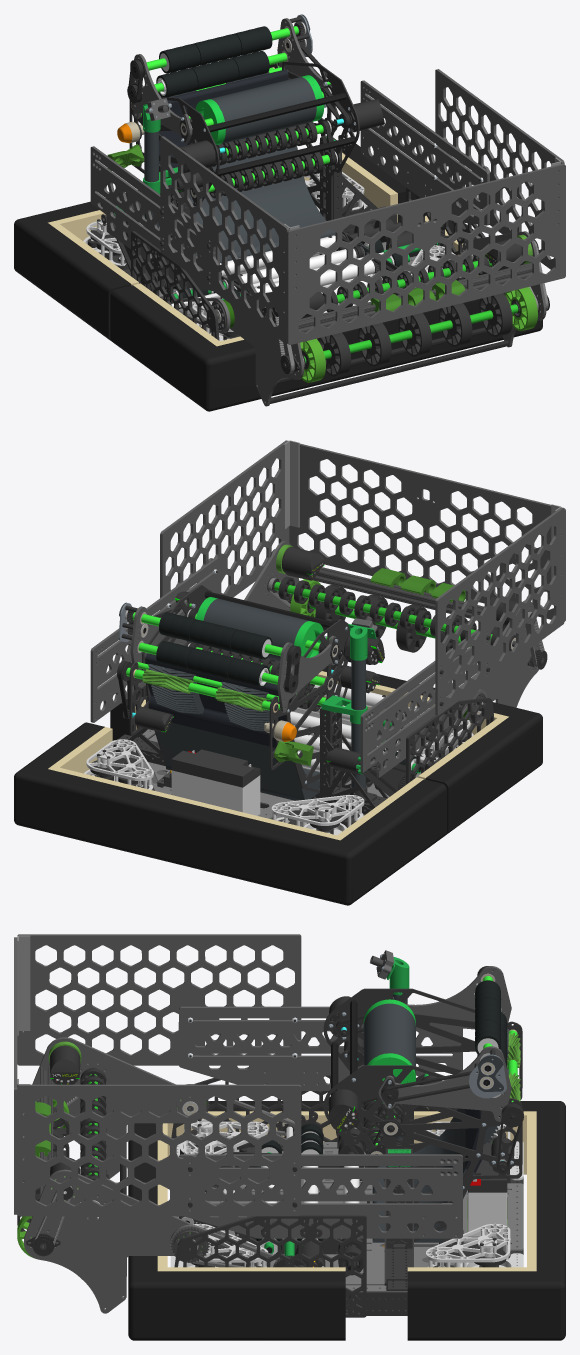
The model's file is entropy-albany.glb.
The picture shows the model from 3 angles, top to bottom: view 1: azimuth 30°, elevation 25°; view 2: azimuth 150°, elevation 25°; view 3: azimuth 270°, elevation 25°; orthographic projection. The views are drawn at different scales.
Visible parts, largest first — view 1: hopper__clear, bumpers__matte, shooter__matte, intake__matte, hood__matte, intake__metal, shooter__metal, intake__clear, hood__clear, indexer__matte, drive__matte, indexer__clear (+4 smaller); view 2: hopper__clear, bumpers__matte, shooter__matte, intake__matte, hood__matte, shooter__metal, power__matte, drive__matte, hood__metal, intake__clear, hood__clear, intake__metal (+7 smaller); view 3: hopper__clear, bumpers__matte, shooter__matte, intake__clear, intake__matte, drive__matte, hood__clear, shooter__metal, intake__metal, frame__metal, hood__matte, indexer__matte (+6 smaller).
Boxes of the visible parts, x1,y1,x2,y2 form: hopper__clear: (90, 69, 565, 344); bumpers__matte: (14, 144, 542, 411); shooter__matte: (107, 61, 397, 275); intake__matte: (131, 187, 548, 382); hood__matte: (128, 14, 331, 118); intake__metal: (170, 228, 549, 403); shooter__metal: (122, 63, 384, 277); intake__clear: (230, 231, 546, 406); hood__clear: (132, 18, 332, 143); indexer__matte: (112, 206, 410, 308); drive__matte: (86, 172, 461, 339); indexer__clear: (220, 235, 374, 313); hopper__clear: (90, 440, 565, 777); bumpers__matte: (14, 643, 542, 905); shooter__matte: (113, 585, 387, 814); intake__matte: (131, 544, 544, 784); hood__matte: (118, 603, 329, 709); shooter__metal: (117, 591, 388, 814); power__matte: (157, 720, 296, 819); drive__matte: (86, 706, 470, 833); hood__metal: (119, 602, 339, 731); intake__clear: (244, 541, 540, 718); hood__clear: (130, 600, 338, 712); intake__metal: (267, 546, 547, 765); hopper__clear: (14, 934, 462, 1238); bumpers__matte: (128, 1101, 565, 1340); shooter__matte: (323, 988, 522, 1290); intake__clear: (23, 1037, 206, 1313); intake__matte: (17, 1041, 366, 1317); drive__matte: (170, 1118, 523, 1267); hood__clear: (378, 966, 511, 1121); shooter__metal: (328, 992, 523, 1285); intake__metal: (26, 1045, 325, 1308); frame__metal: (175, 1142, 523, 1292); hood__matte: (382, 966, 507, 1101); indexer__matte: (180, 1073, 441, 1275).
Bounding box in the file's own units: 0.8508 × 0.5476 × 1.07.
